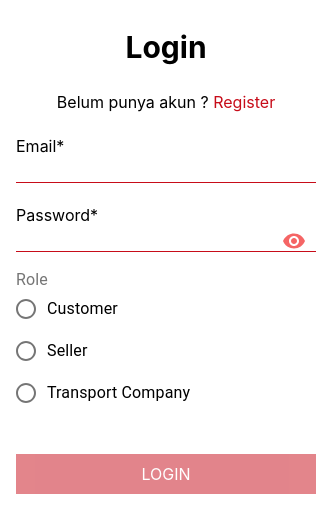
Test case: error email 2
Check: the heading "Login" is shown, box [125,28,206,64]
Type "gennardo" into the field with test id "email".
click(166, 170); type("gennardo")  # box [16,158,316,182]
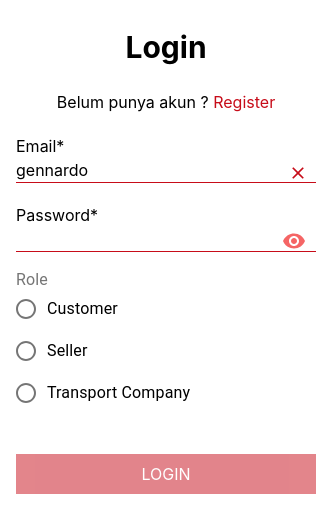
Leave the field with test id "email", box [16,158,316,182]
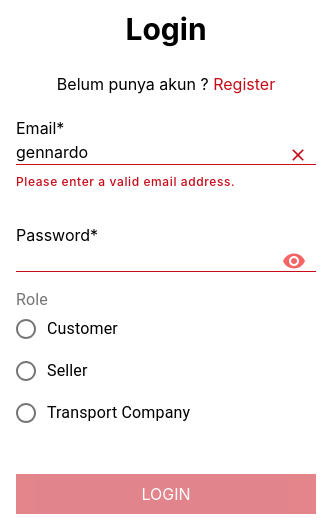
Check: the text "Please enter a valid email address." is shown, box [16,174,235,189]
